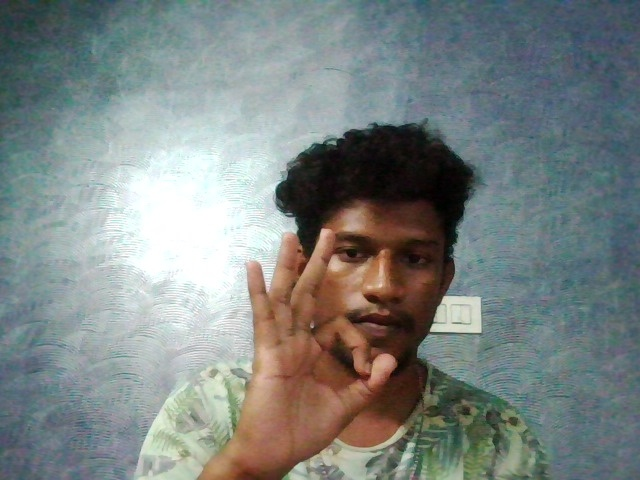good: (188, 196, 449, 480)
